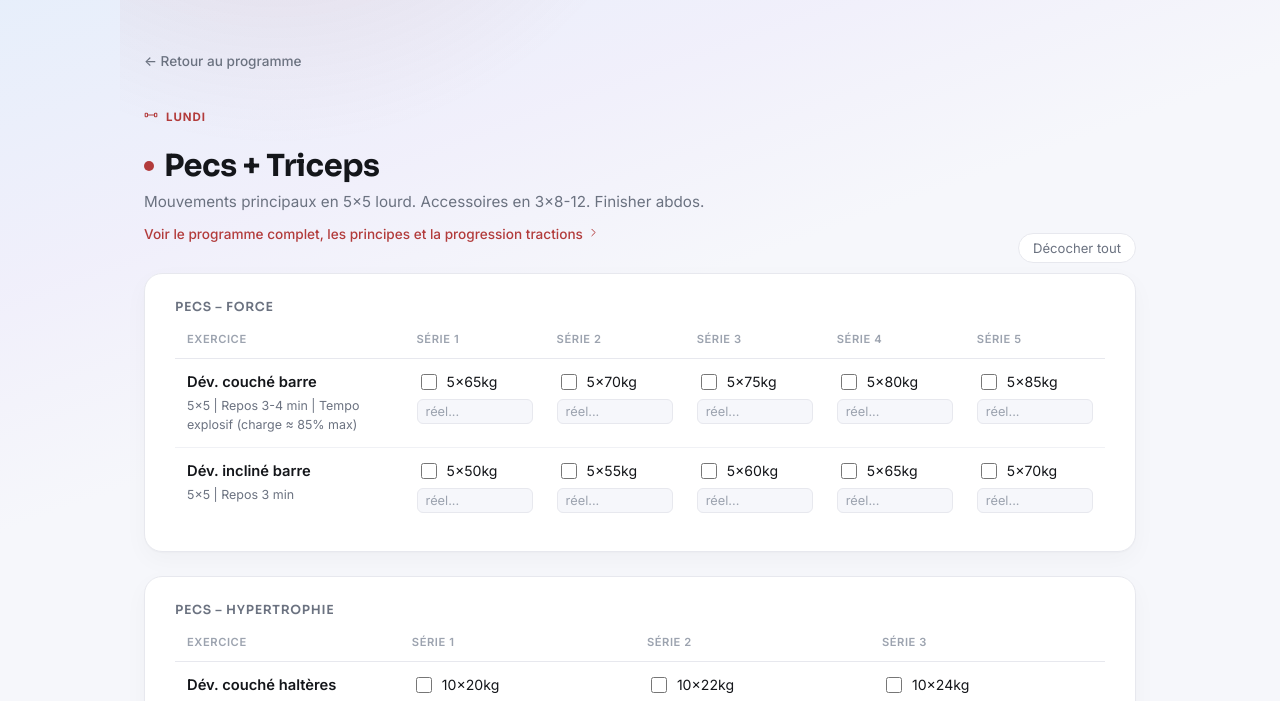
StrengthSessionDetailComponent › unticks every box of the session on the second tap
Step 1. Click the checkbox labelled "5×65kg" next to "Dév. couché barre" → point(428, 382), box [420, 374, 436, 390]
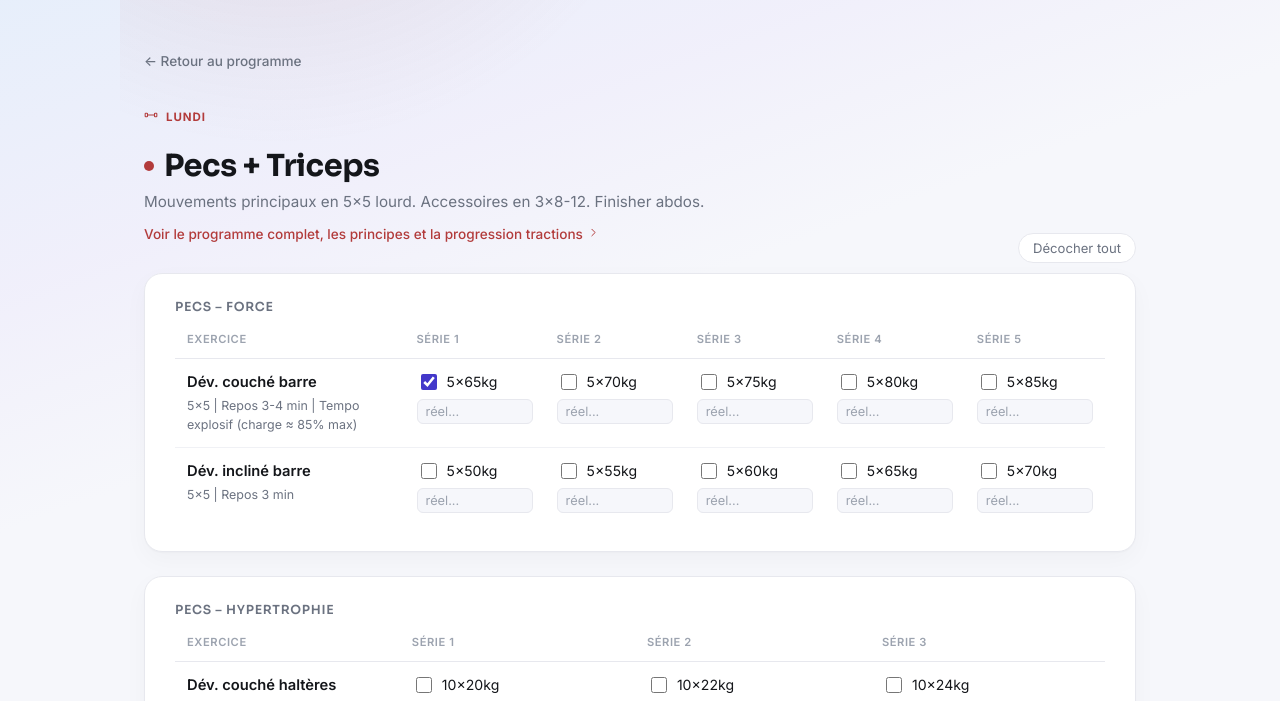
Step 2. Click the checkbox labelled "5×70kg" in the row of "Dév. couché barre" → point(569, 382), box [561, 374, 577, 390]
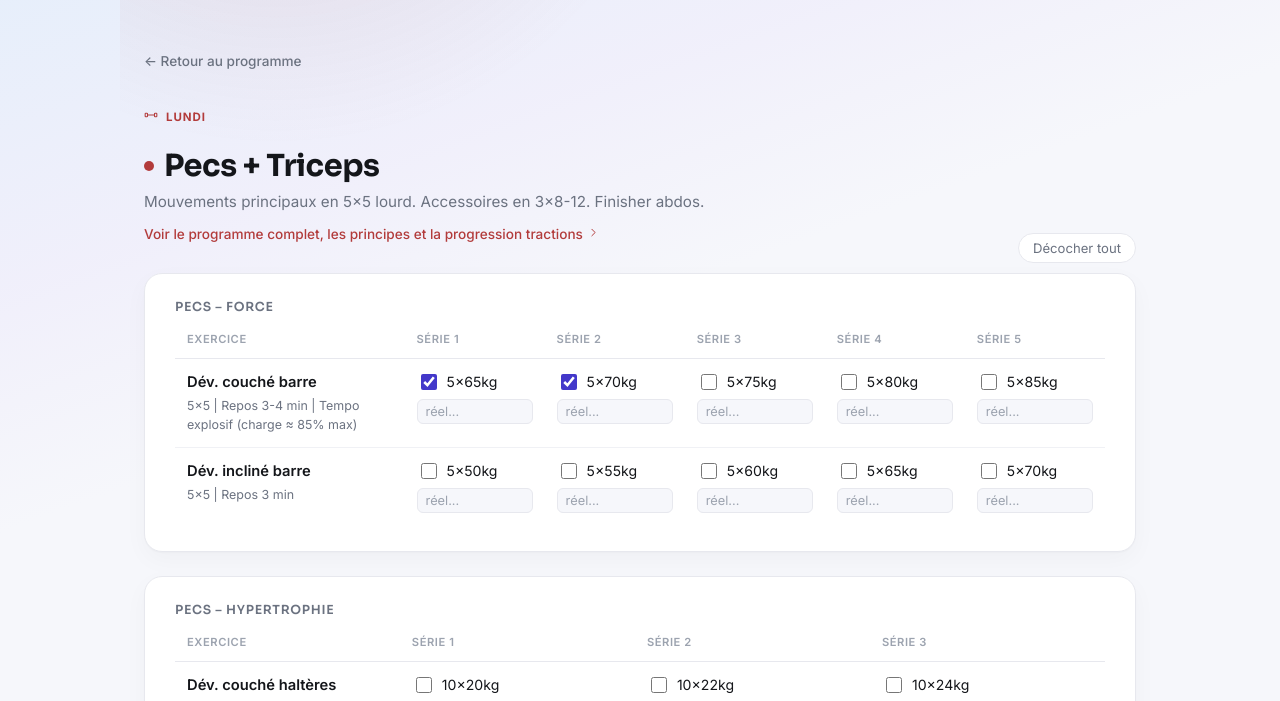
Step 3. Click the button with class "reset-done" → point(1077, 248), box [1018, 233, 1136, 263]
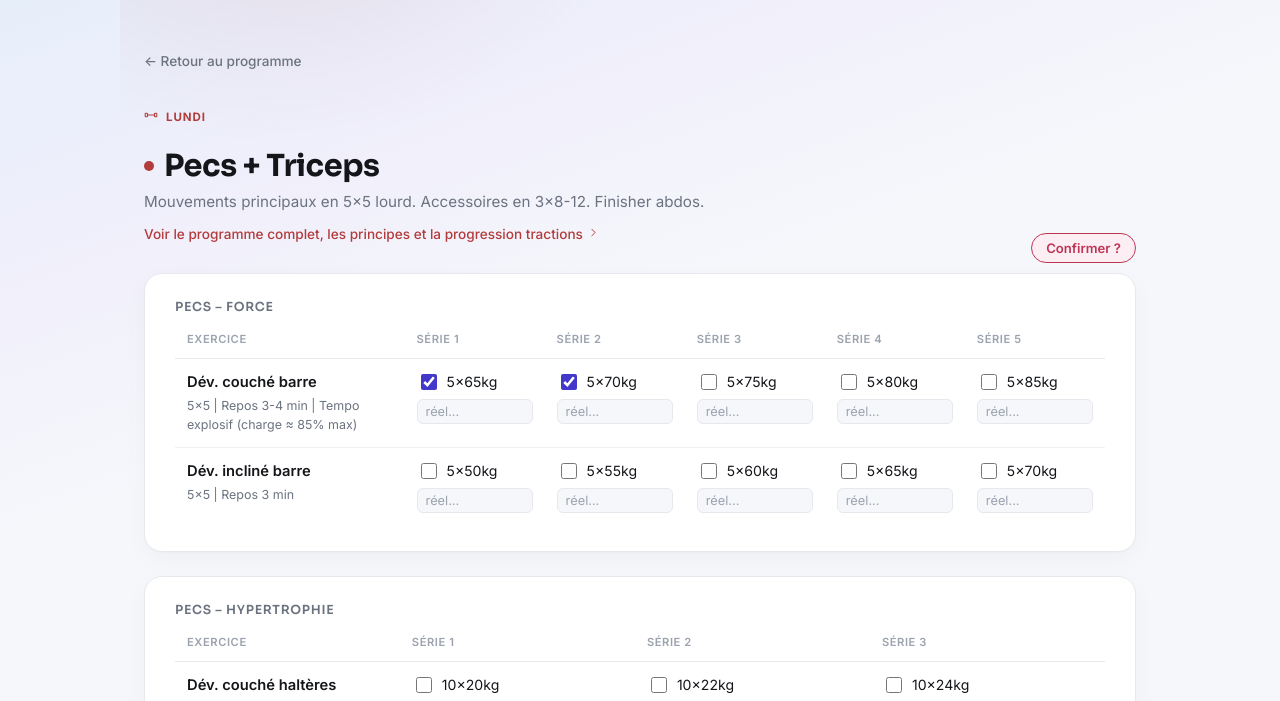
Step 4. Click the button with class "reset-done" → point(1084, 248), box [1031, 233, 1136, 263]
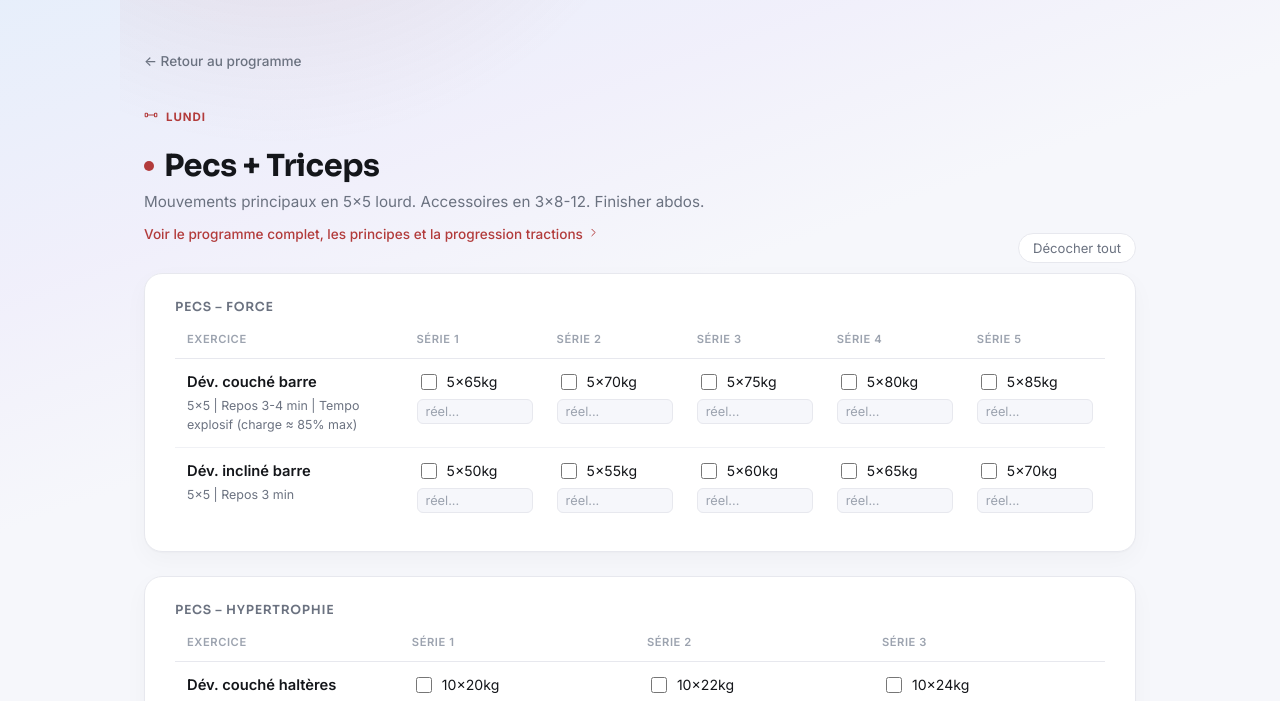
Now the button with class "reset-done" shows "Décocher", box [1018, 233, 1136, 263]
